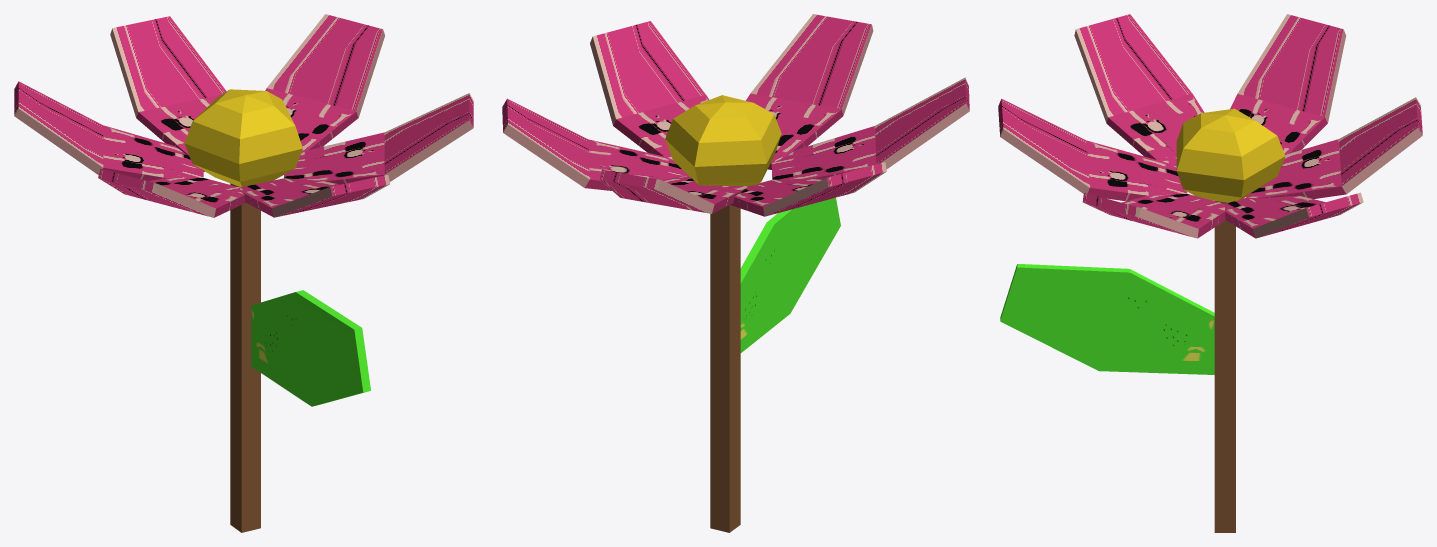
Rendered from flower1.fbx.
3 views of the same model, side by side, from view 1: azimuth 30°, elevation 25°; view 2: azimuth 150°, elevation 25°; view 3: azimuth 270°, elevation 25° (orthographic). The views are drawn at different scales.
Parts seen in each view (by area): view 1: Plane.002, Plane.007, Cube, Sphere.002; view 2: Plane.002, Cube, Plane.007, Sphere.002; view 3: Plane.002, Plane.007, Sphere.002, Cube.
Boxes of the visible parts, box(x1,y1,x2,y2) form: Plane.002: box(14, 14, 473, 217); Plane.007: box(251, 290, 370, 406); Cube: box(230, 183, 260, 532); Sphere.002: box(184, 89, 302, 187); Plane.002: box(502, 14, 969, 216); Cube: box(710, 205, 740, 532); Plane.007: box(740, 197, 840, 352); Sphere.002: box(665, 95, 781, 186); Plane.002: box(998, 14, 1422, 238); Plane.007: box(1000, 264, 1214, 374); Sphere.002: box(1176, 108, 1285, 202); Cube: box(1214, 201, 1235, 532).
Bounding box in the file's own units: 232 × 257 × 233.
4 materials, 2 textured.
